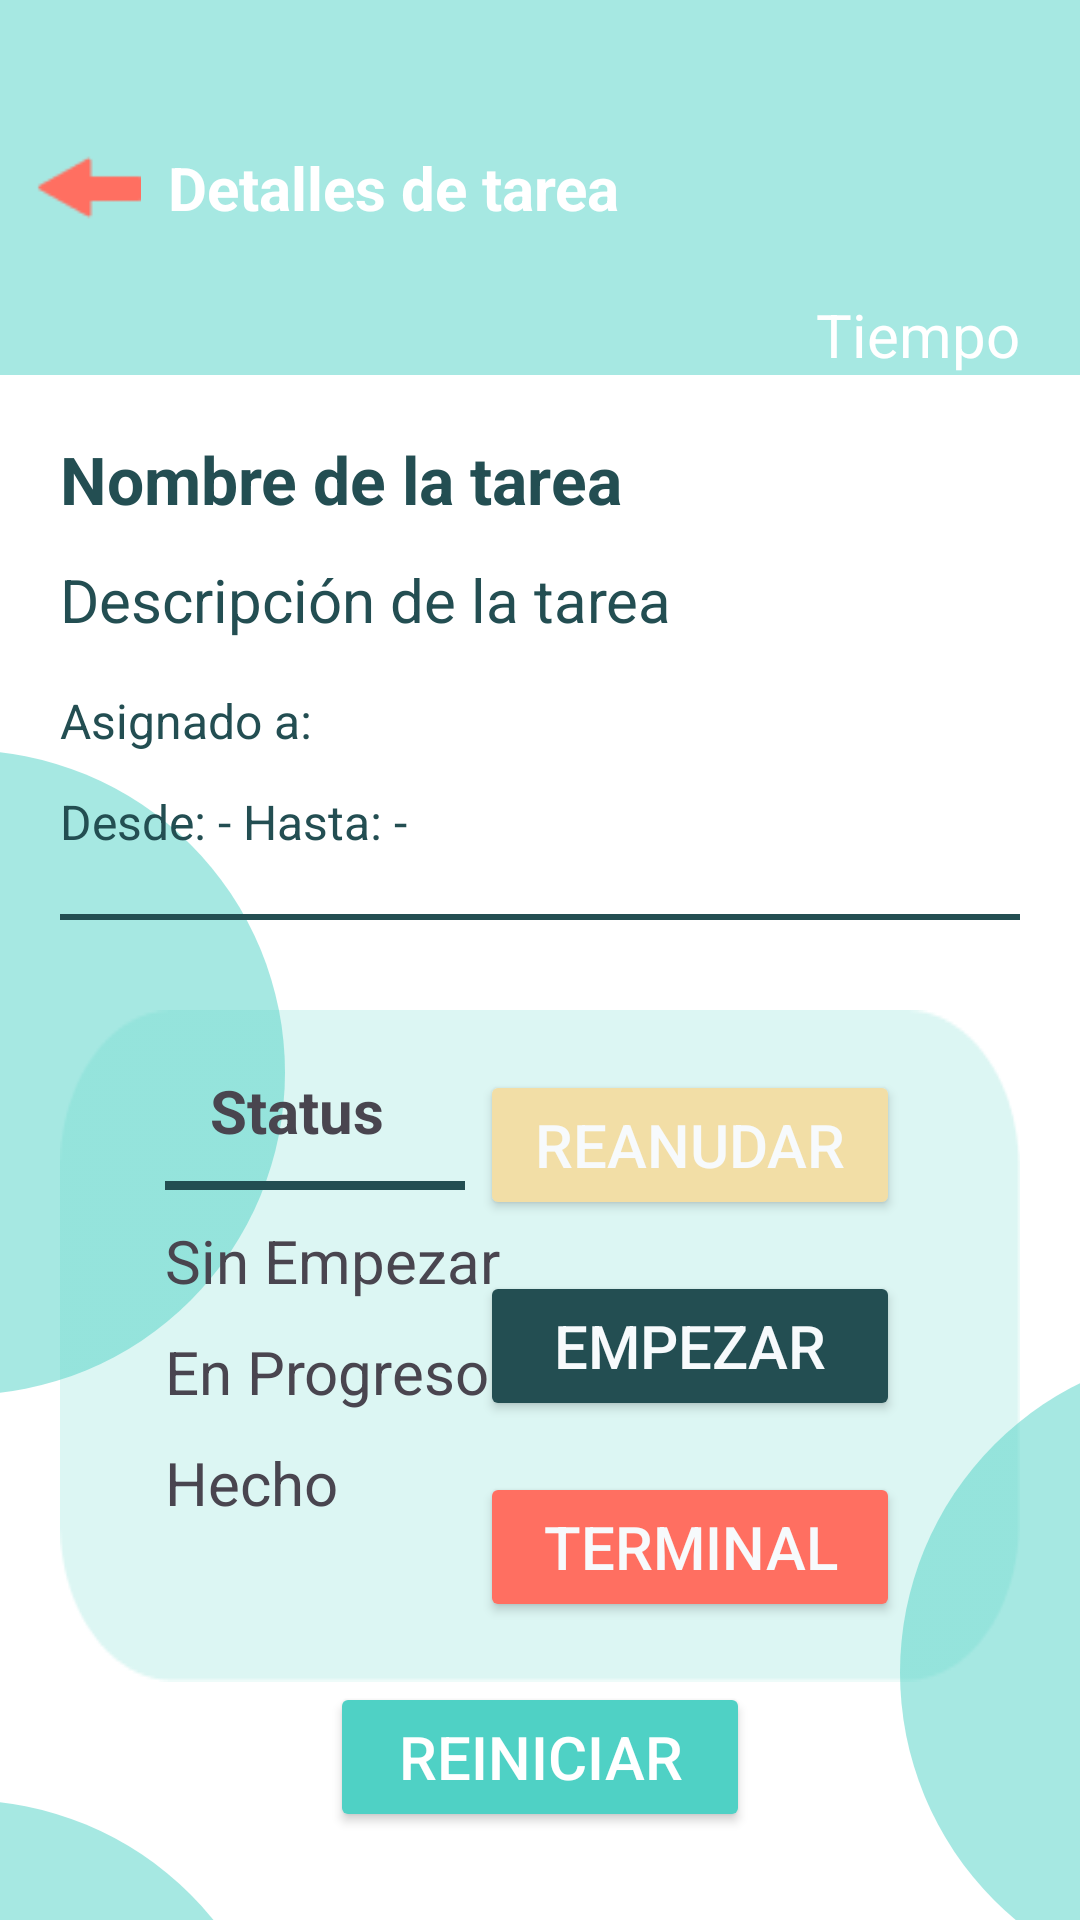

Icons on this 1080 x 1920 Android screen, each with its box as [x1, y1, x2, y2]:
flecha: [38, 157, 141, 218]
